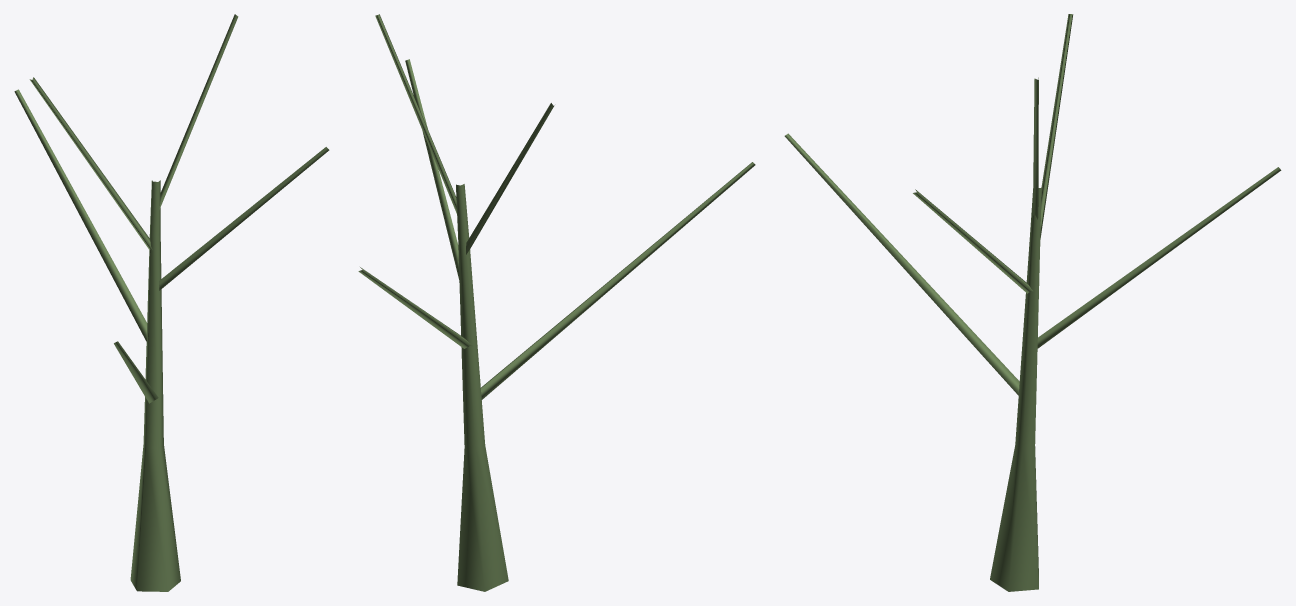
Rendered from tree_s1_lod2.glb.
3 renders of one model, left to right at view 1: azimuth 30°, elevation 25°; view 2: azimuth 150°, elevation 25°; view 3: azimuth 270°, elevation 25°, orthographic.
Size of the model in its own units: 4.01 by 7.42 by 6.06.
